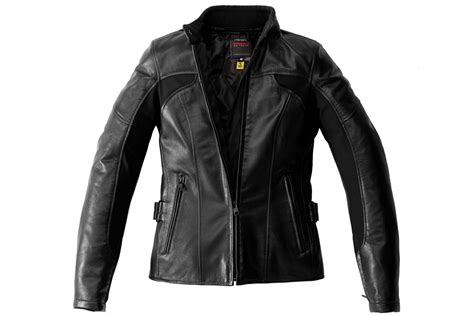cuero: (73, 5, 401, 313)
